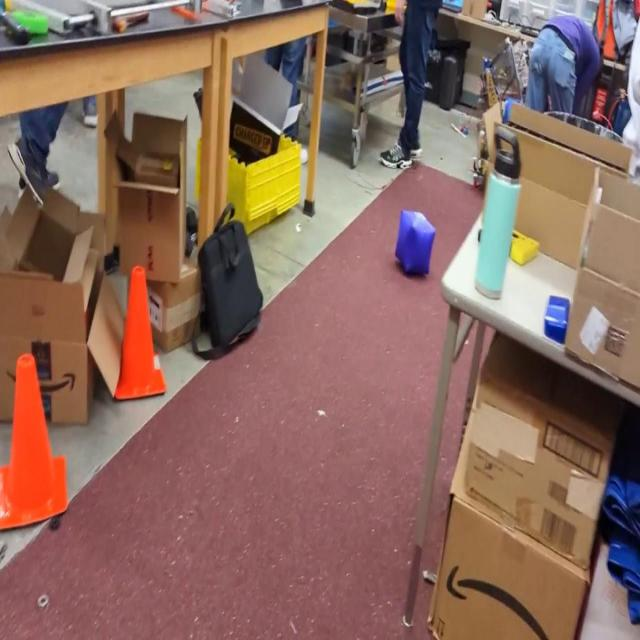frc_cone: (382, 0, 408, 17)
frc_cube: (394, 208, 436, 276)
